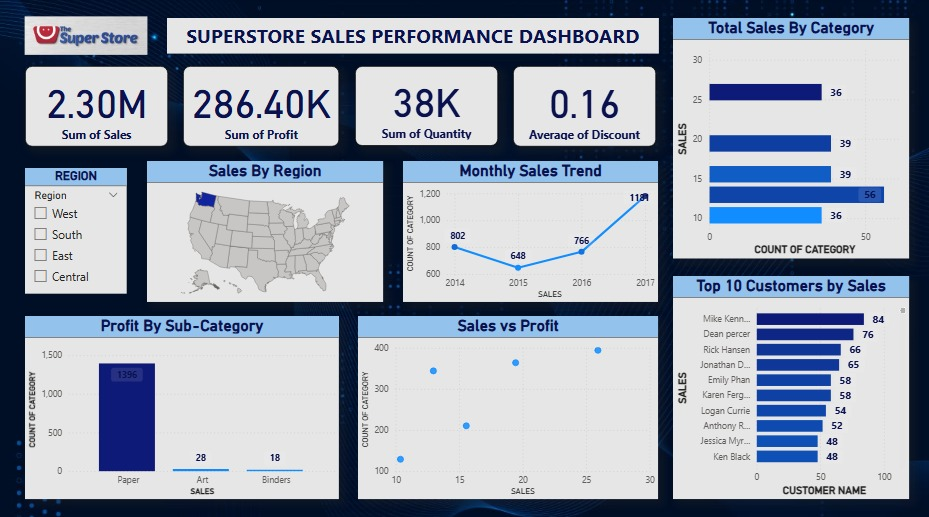

The dashboard page shown, as its layout file describes it:
{"tool":"powerbi","page":{"name":"Page 1","canvas":[1280,720],"ordinal":0},"visuals":[{"type":"barChart","title":"Total Sales By Category","fields":{"Category":["Sample - Superstore.Sales"],"Y":["Sample - Superstore.Category"]},"box":[928.2,28.9,325.3,331.1],"z":0},{"type":"map","title":"Sales By Region","fields":{"Series":["Sample - Superstore.Sales"],"Size":["Sample - Superstore.Category"],"Category":["Sample - Superstore.Region"]},"box":[203.9,225.5,325.3,193.7],"z":1000},{"type":"columnChart","title":"Profit By Sub-Category","fields":{"Category":["Sample - Superstore.Sub-Category"],"Y":["Sample - Superstore.Profit"]},"box":[36.1,439.5,432.3,251.6],"z":2000},{"type":"lineChart","title":"Monthly Sales Trend","fields":{"Category":["Sample - Superstore.Order Date.Variation.Date Hierarchy.Year"],"Y":["Sample - Superstore.Sales"]},"box":[556.6,225.5,351.3,193.7],"z":3000},{"type":"scatterChart","title":"Sales vs Profit","fields":{"X":["Sample - Superstore.Sales"],"Series":["Sample - Superstore.Category"],"Y":["Sample - Superstore.Profit"]},"box":[494.5,439.5,413.5,251.6],"z":4000},{"type":"barChart","title":"Top 10 Customers by Sales","fields":{"Category":["Sample - Superstore.Customer Name"],"Y":["Sample - Superstore.Sales"]},"box":[928.2,384.6,325.3,306.5],"z":5000},{"type":"card","fields":{"Values":["Sample - Superstore.Sales"]},"box":[36.1,95.4,196.6,111.3],"z":6000},{"type":"card","fields":{"Values":["Sample - Superstore.Profit"]},"box":[253,95.4,215.4,111.3],"z":7000},{"type":"card","fields":{"Values":["Sample - Superstore.Quantity"]},"box":[487.2,94,196.6,111.3],"z":8000},{"type":"card","fields":{"Values":["Sample - Superstore.Discount"]},"box":[707,95.4,196.6,111.3],"z":9000},{"type":"textbox","box":[231.3,28.9,676.6,49.2],"z":10000},{"type":"image","box":[30.4,20.2,179.3,65.1],"z":10004},{"type":"slicer","title":"REGION","fields":{"Values":["Sample - Superstore.Region"]},"box":[36.1,235.7,140.2,173.5],"z":10005}]}

Visuals, with their boxes in screenshot pixels (x1, y1, x2, y2), scaled from the page's 1280x720 canvas onto the 929x517 screenshot:
"Total Sales By Category" barChart: 674,21,910,258
"Sales By Region" map: 148,162,384,301
"Profit By Sub-Category" columnChart: 26,316,340,496
"Monthly Sales Trend" lineChart: 404,162,659,301
"Sales vs Profit" scatterChart: 359,316,659,496
"Top 10 Customers by Sales" barChart: 674,276,910,496
card - Sample - Superstore.Sales: 26,69,169,148
card - Sample - Superstore.Profit: 184,69,340,148
card - Sample - Superstore.Quantity: 354,67,496,147
card - Sample - Superstore.Discount: 513,69,656,148
textbox: 168,21,659,56
image: 22,15,152,61
"REGION" slicer: 26,169,128,294
